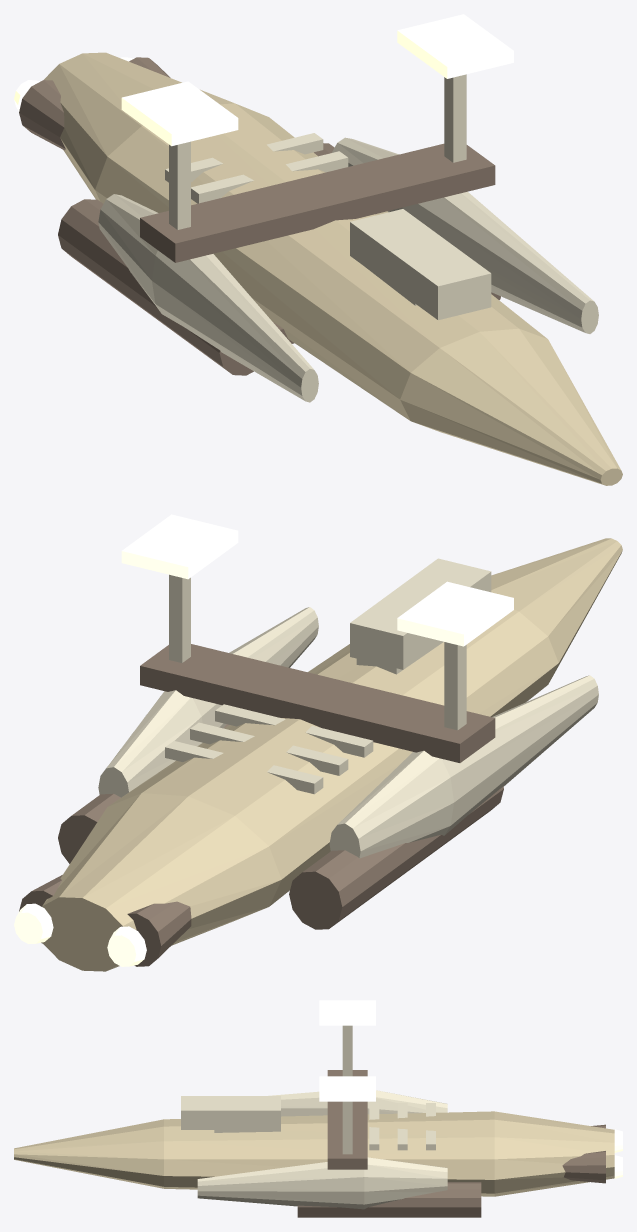
The picture shows the model from 3 angles, top to bottom: view 1: azimuth 30°, elevation 25°; view 2: azimuth 150°, elevation 25°; view 3: azimuth 270°, elevation 25°; orthographic projection. The views are drawn at different scales.
Size of the model in its own units: 2.96 by 2.05 by 8.03.
